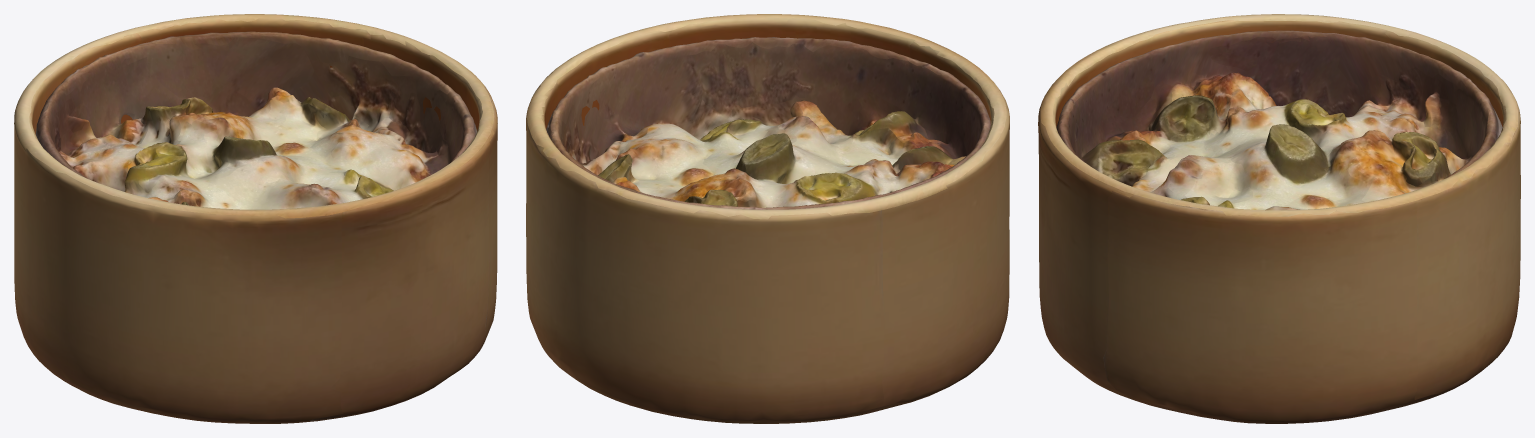
The model's file is spicy.bowl.01.glb.
The picture shows the model from 3 angles, left to right: view 1: azimuth 30°, elevation 25°; view 2: azimuth 150°, elevation 25°; view 3: azimuth 270°, elevation 25°; orthographic projection.
Visible parts, largest first — view 1: /Root/Scenes/Scene/Object_44/Object_48/Object_49/Submesh_0, /Root/Scenes/Scene/Object_44/Object_45/Submesh_0; view 2: /Root/Scenes/Scene/Object_44/Object_48/Object_49/Submesh_0, /Root/Scenes/Scene/Object_44/Object_45/Submesh_0; view 3: /Root/Scenes/Scene/Object_44/Object_48/Object_49/Submesh_0, /Root/Scenes/Scene/Object_44/Object_45/Submesh_0.
Part boxes in pixels (x1,y1,x2,y2): /Root/Scenes/Scene/Object_44/Object_48/Object_49/Submesh_0: (14,14,497,423); /Root/Scenes/Scene/Object_44/Object_45/Submesh_0: (35,31,476,209); /Root/Scenes/Scene/Object_44/Object_48/Object_49/Submesh_0: (526,14,1009,423); /Root/Scenes/Scene/Object_44/Object_45/Submesh_0: (546,37,990,209); /Root/Scenes/Scene/Object_44/Object_48/Object_49/Submesh_0: (1038,14,1520,423); /Root/Scenes/Scene/Object_44/Object_45/Submesh_0: (1056,30,1502,210).
Bounding box in the file's own units: 0.1483 × 0.0747 × 0.1486.
2 materials, 2 textured.
